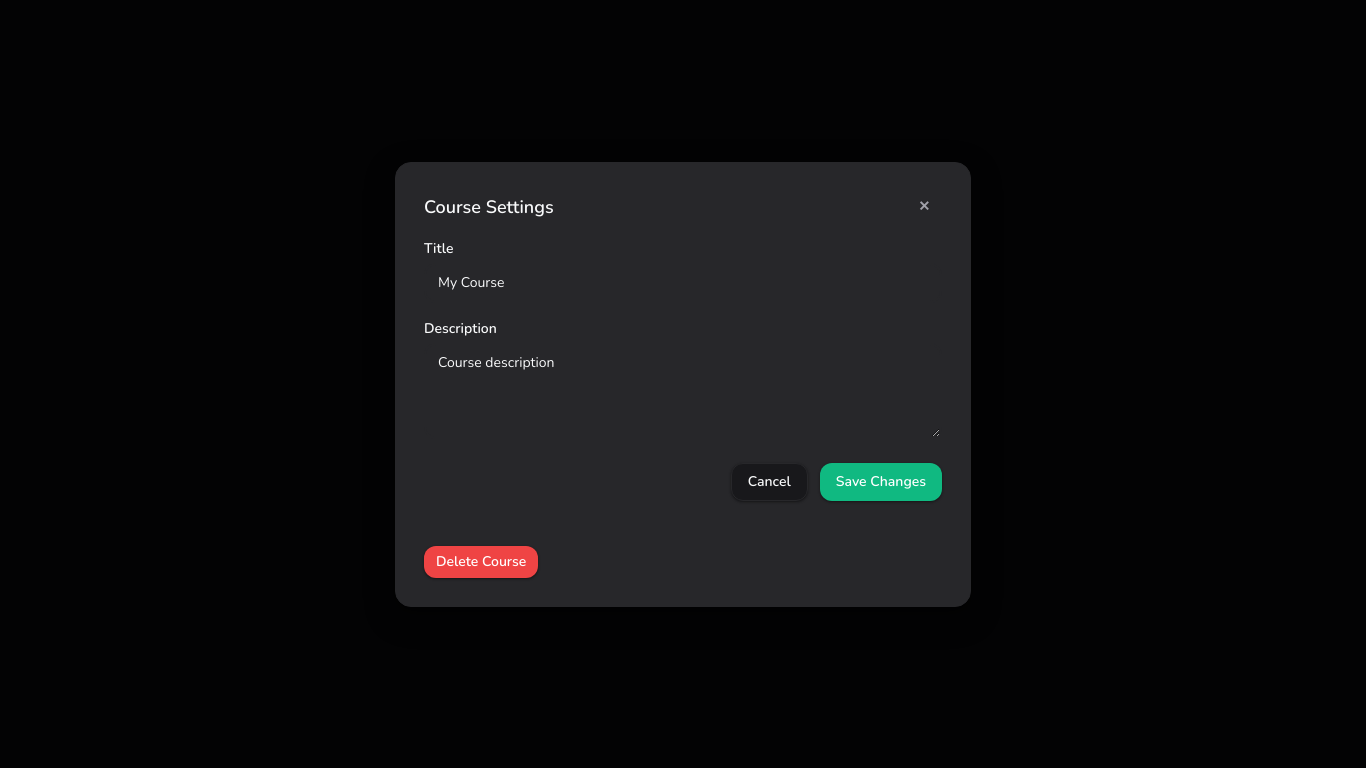
Scenario: CourseSettingsModal › shows confirm dialog when Delete Course is clicked
The width and height of the screenshot is (1366, 768).
Click the button "Delete Course" at (481, 562), box [424,546,538,578]
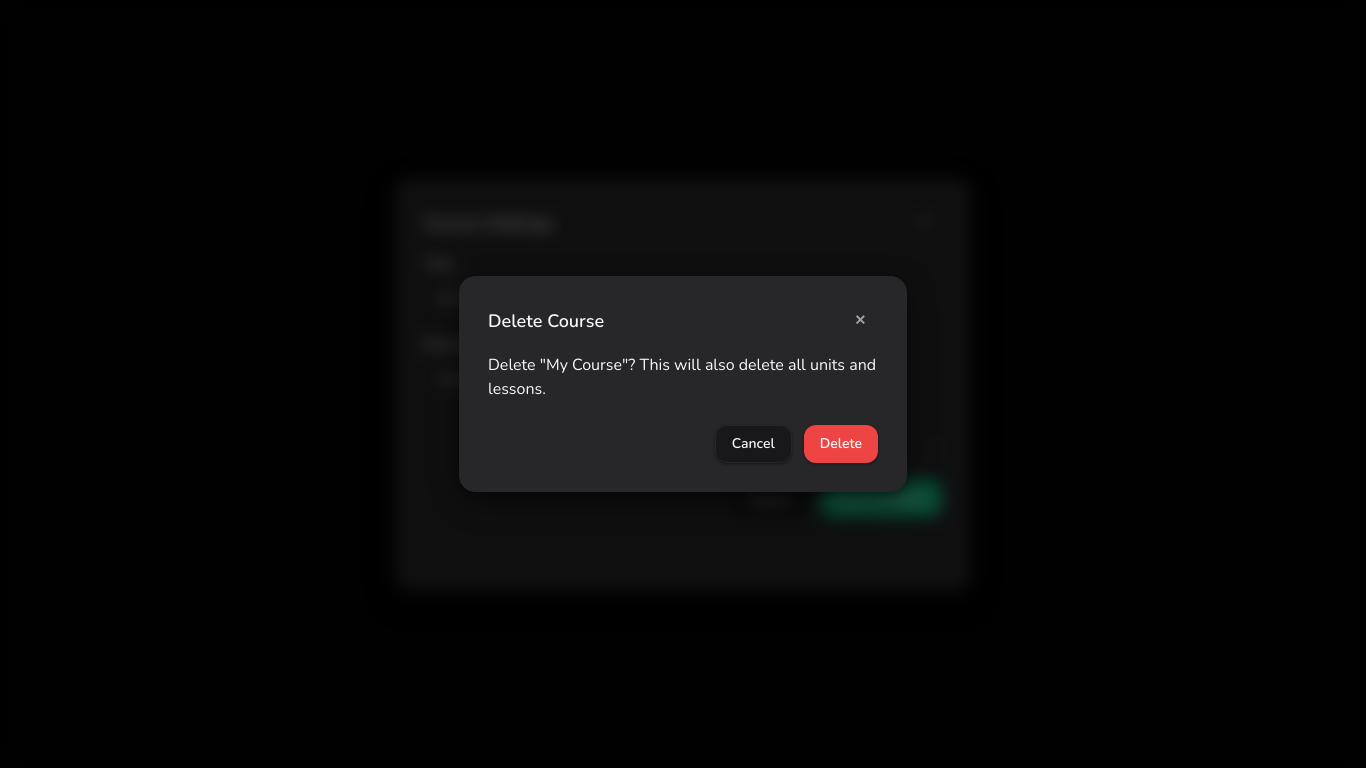
Check: the text "Delete \"My Course\"" is shown, box [488,354,876,400]
